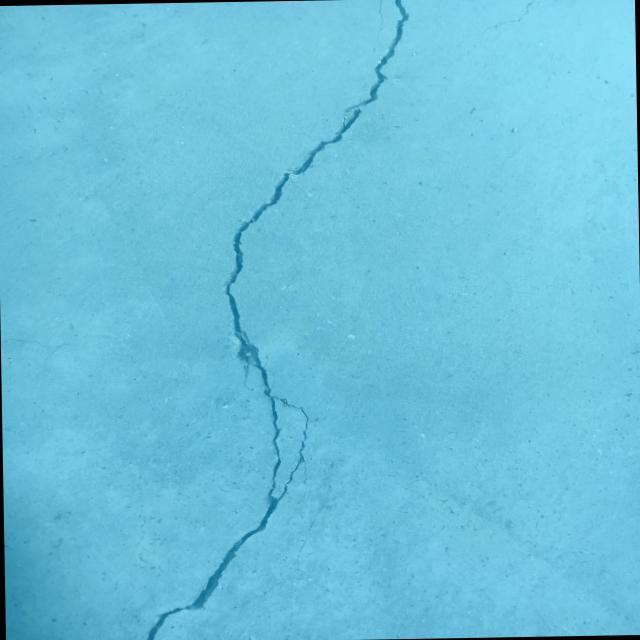crack: (133, 0, 420, 640), (474, 0, 537, 45), (375, 0, 384, 41)
